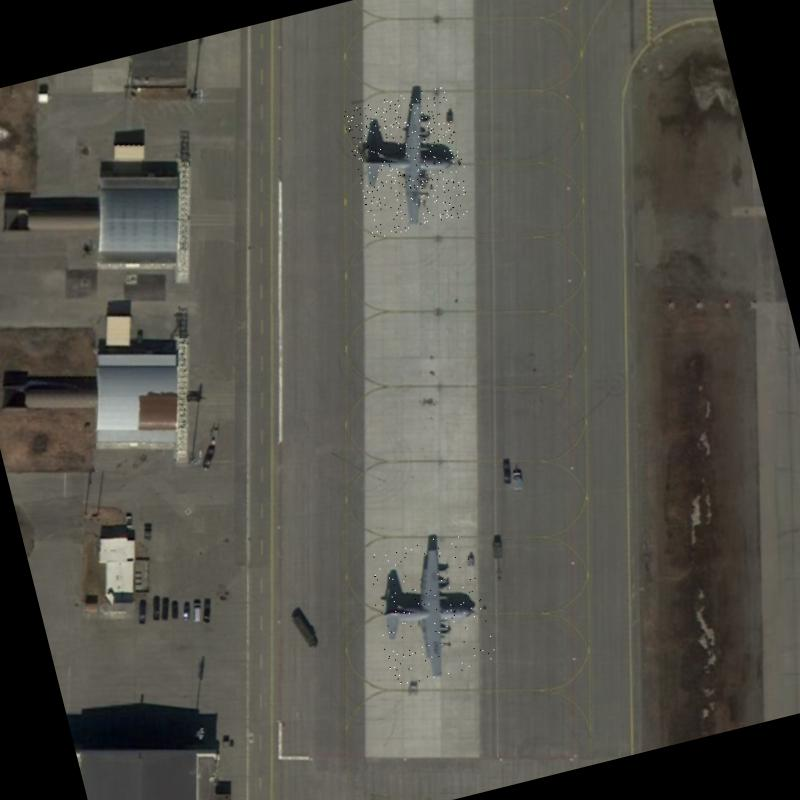A2: (360, 530, 498, 688), (341, 84, 476, 239)
